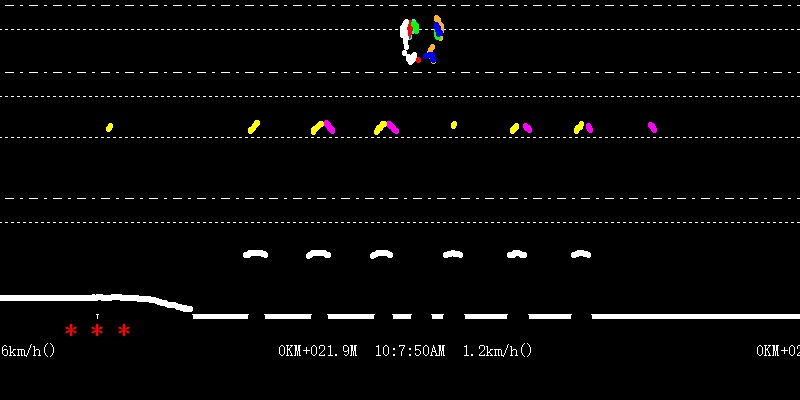J: (401, 3, 444, 64)
star: (116, 319, 132, 339), (64, 322, 78, 340), (91, 320, 104, 339)
y_p: (224, 110, 598, 275)
